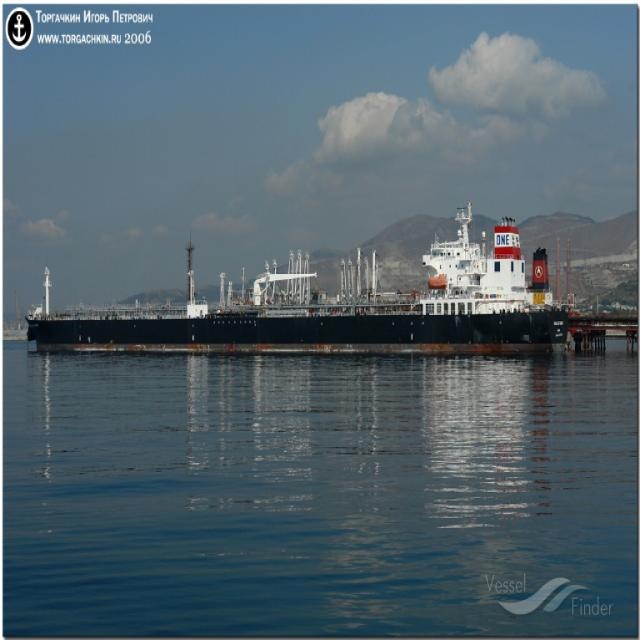Oil Tanker: (25, 202, 572, 355)
